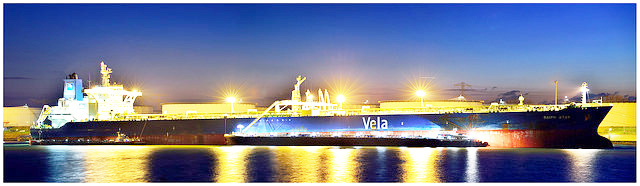tanker: (27, 68, 617, 151)
